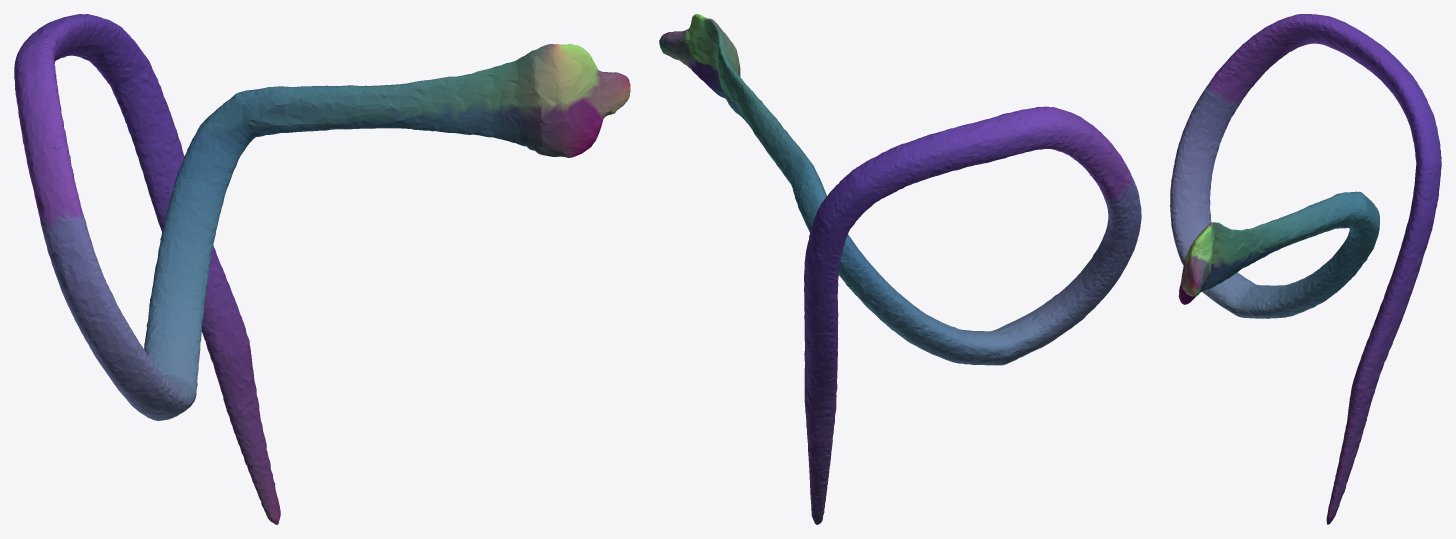
File: snake-8.off.obj
3 renders of one model, left to right at view 1: azimuth 30°, elevation 25°; view 2: azimuth 150°, elevation 25°; view 3: azimuth 270°, elevation 25°, orthographic. The views are drawn at different scales.
Size of the model in its own units: 1.36 by 1.24 by 0.7298.
